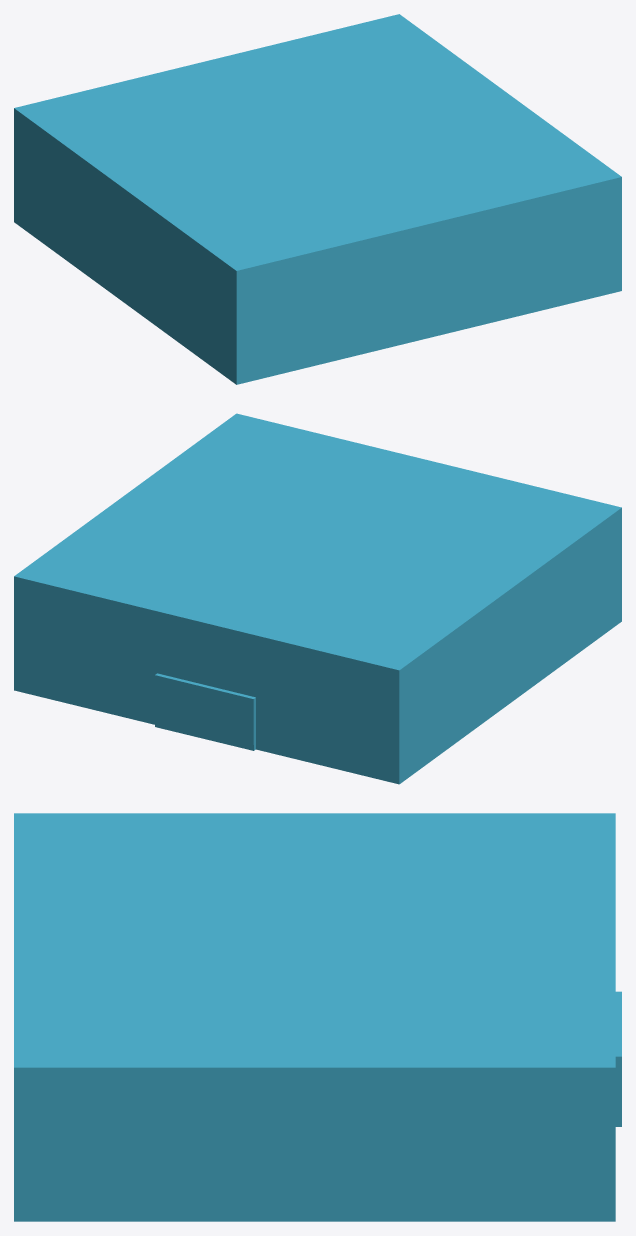
File: Itr_Trashcan1_Cap_05.FBX
The picture shows the model from 3 angles, top to bottom: view 1: azimuth 30°, elevation 25°; view 2: azimuth 150°, elevation 25°; view 3: azimuth 270°, elevation 25°; orthographic projection. The views are drawn at different scales.
Parts seen in each view (by area): view 1: Itr_Trashcan1_Cap_05; view 2: Itr_Trashcan1_Cap_05; view 3: Itr_Trashcan1_Cap_05.
Part boxes in pixels (bbox=[...]): Itr_Trashcan1_Cap_05: bbox=[14, 14, 621, 384]; Itr_Trashcan1_Cap_05: bbox=[14, 413, 621, 784]; Itr_Trashcan1_Cap_05: bbox=[14, 813, 621, 1221].
Bounding box in the file's own units: 14.85 × 4.2 × 15.01.
